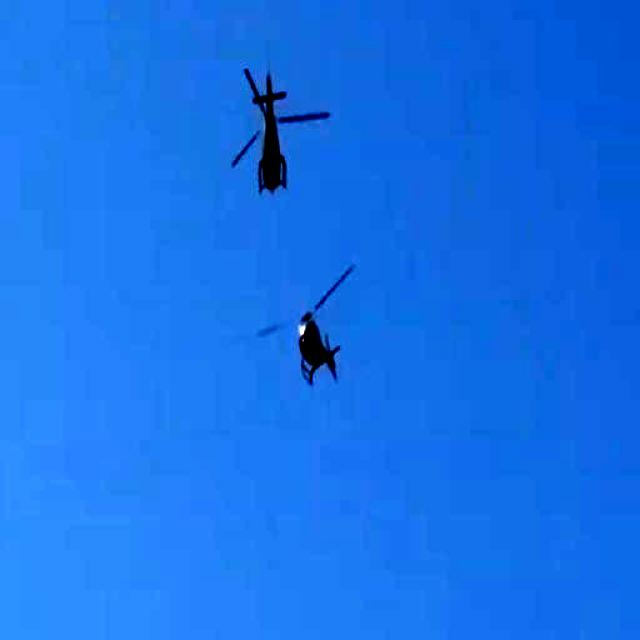drone: (235, 58, 329, 205), (269, 265, 358, 391)
